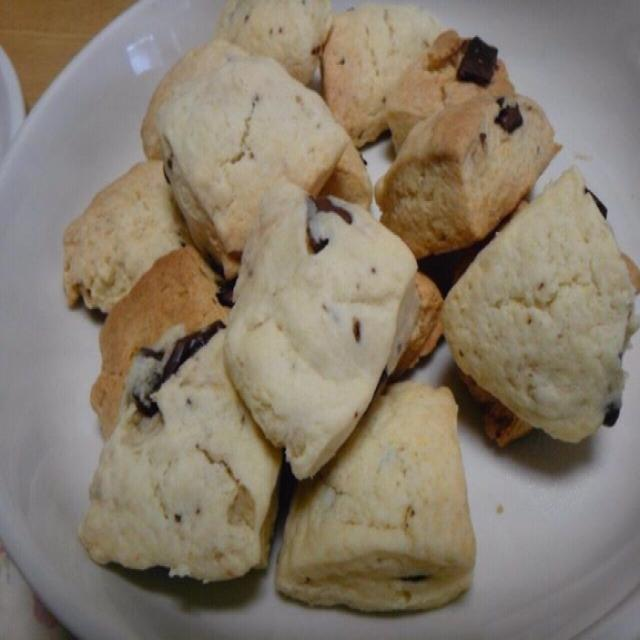面包点心: (15, 8, 636, 604)
